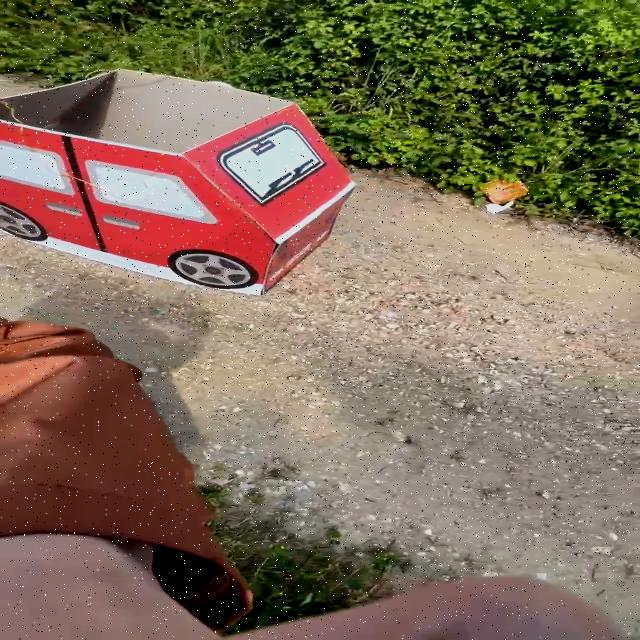red_car: (0, 54, 384, 310)
